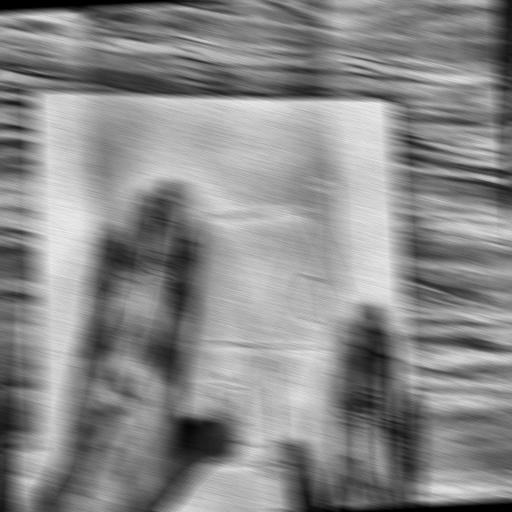house: (67, 141, 385, 489)
top_left: (385, 94, 401, 110)
top_right: (24, 83, 44, 104)
